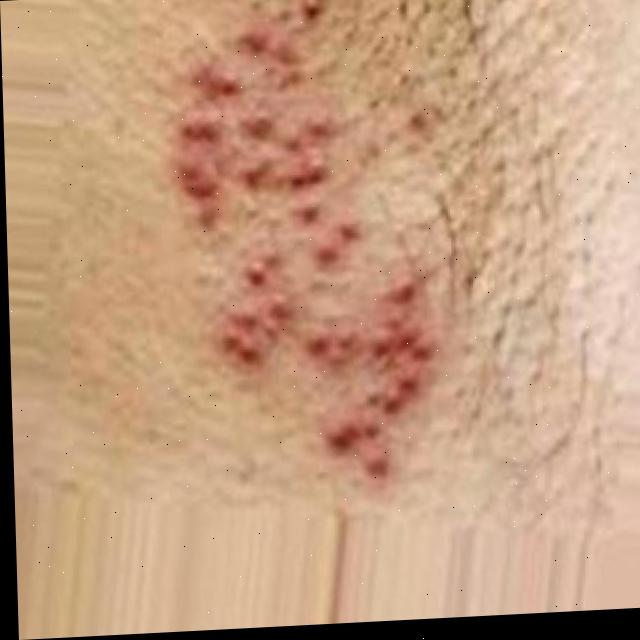Shingles: (167, 0, 439, 486)
